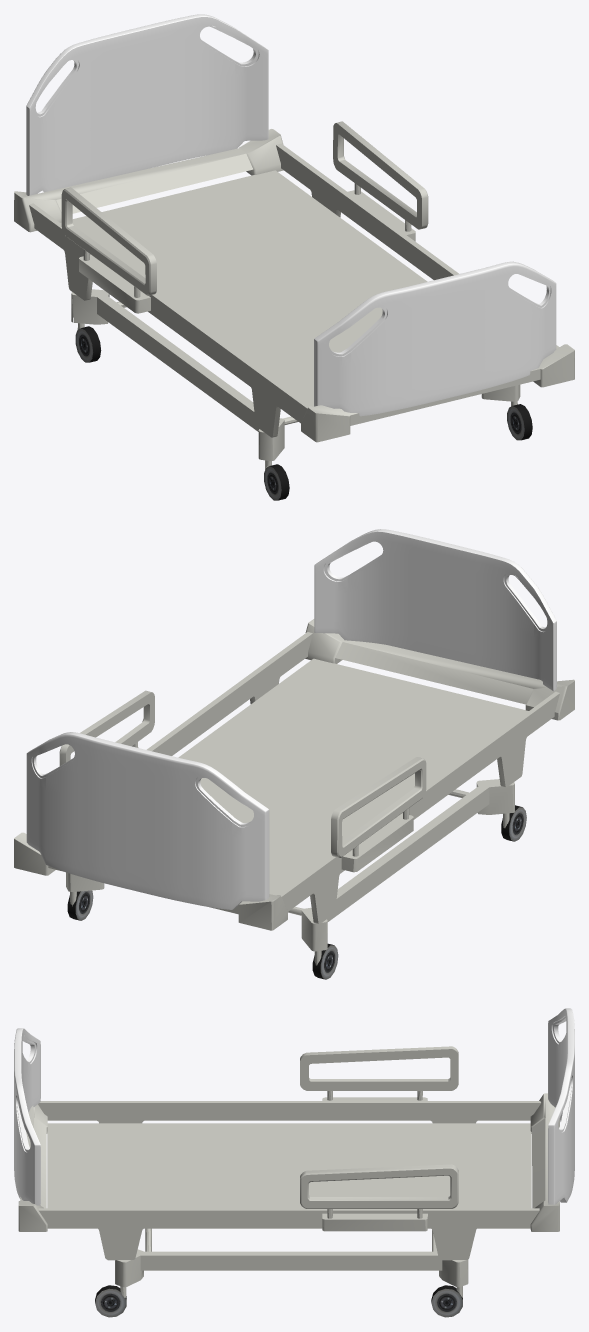
File: Bed.fbx
3 renders of one model, top to bottom at view 1: azimuth 30°, elevation 25°; view 2: azimuth 150°, elevation 25°; view 3: azimuth 270°, elevation 25°, orthographic. The views are drawn at different scales.
Visible parts, largest first — view 1: Bed; view 2: Bed; view 3: Bed.
Part boxes in pixels (x1,y1,x2,y2): Bed: (14, 14, 574, 500); Bed: (14, 529, 574, 979); Bed: (14, 1008, 574, 1317).
Size of the model in its own units: 101 by 86.25 by 196.
1 material, 1 textured.
